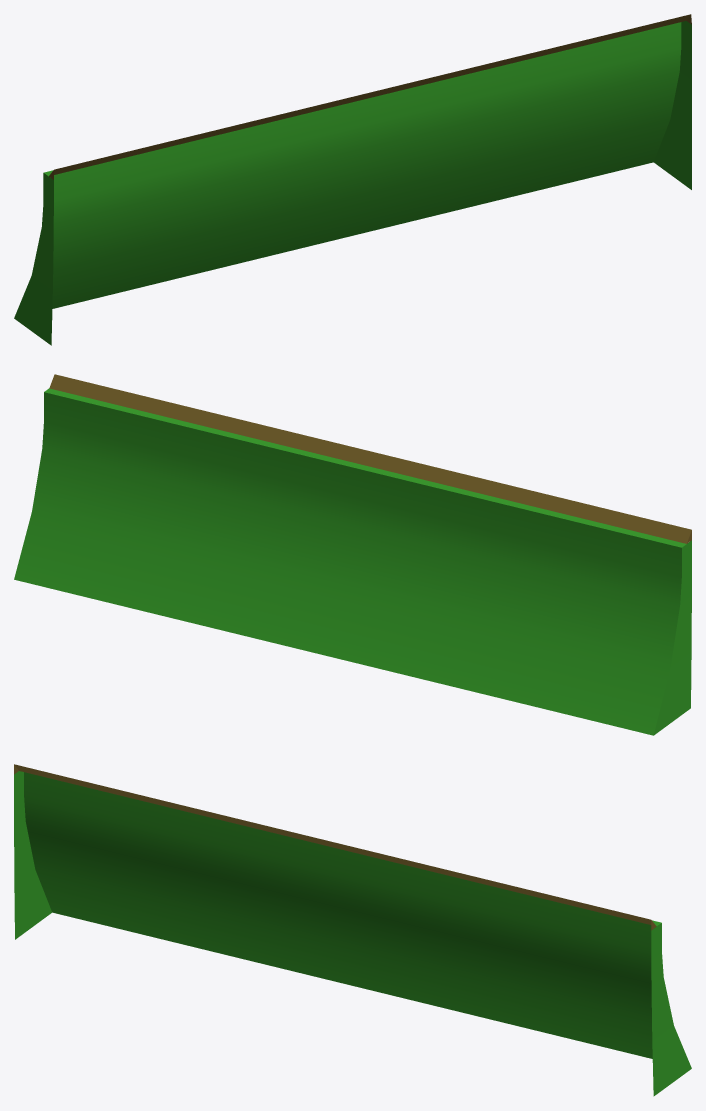
The model's file is ModuleSC_Lfloor_004.FBX.
3 renders of one model, top to bottom at view 1: azimuth 30°, elevation 25°; view 2: azimuth 150°, elevation 25°; view 3: azimuth 330°, elevation 25°, orthographic.
Visible parts, largest first — view 1: ModuleSC_Lfloor_a4b, ModuleSC_Lfloor_a4; view 2: ModuleSC_Lfloor_a4, ModuleSC_Lfloor_a4b; view 3: ModuleSC_Lfloor_a4, ModuleSC_Lfloor_a4b.
Part boxes in pixels (x1=…): ModuleSC_Lfloor_a4b: x1=334, y1=14, x2=691, y2=240; ModuleSC_Lfloor_a4: x1=14, y1=92, x2=372, y2=345; ModuleSC_Lfloor_a4: x1=334, y1=452, x2=691, y2=735; ModuleSC_Lfloor_a4b: x1=14, y1=374, x2=372, y2=657; ModuleSC_Lfloor_a4: x1=14, y1=764, x2=371, y2=990; ModuleSC_Lfloor_a4b: x1=333, y1=842, x2=691, y2=1096.
Bounding box in the file's own units: 39.52 × 10.46 × 4.22.
